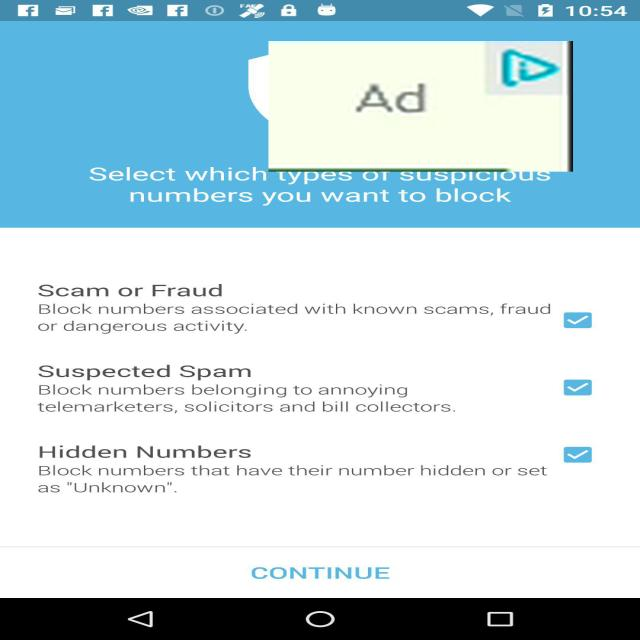sneaking: (268, 41, 573, 172)
